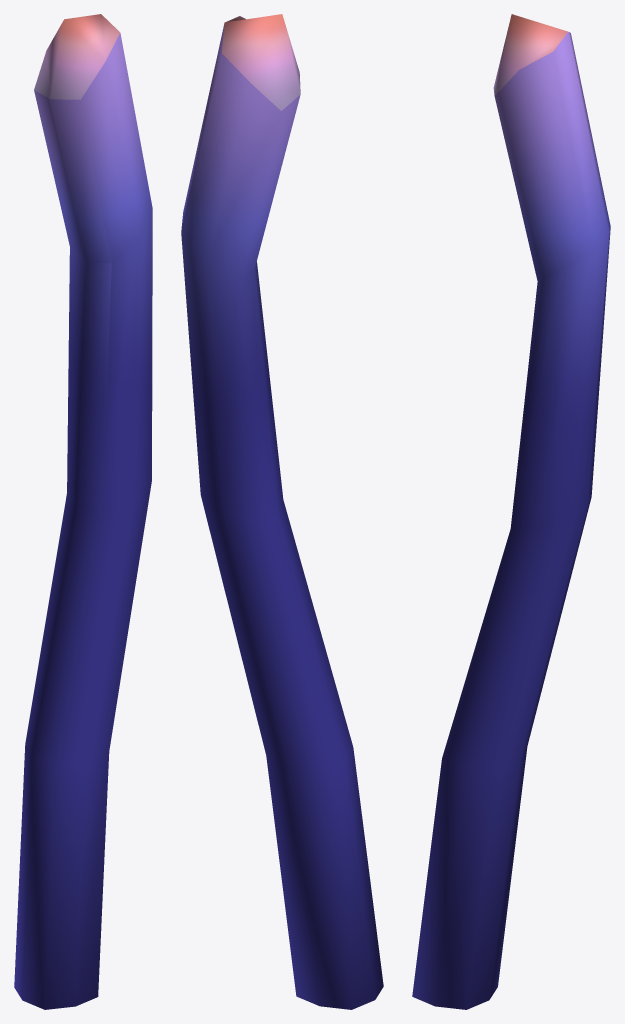
The model's file is GroundCover1.002.fbx.
The picture shows the model from 3 angles, left to right: view 1: azimuth 30°, elevation 25°; view 2: azimuth 150°, elevation 25°; view 3: azimuth 330°, elevation 25°; orthographic projection. The views are drawn at different scales.
Visible parts, largest first — view 1: Stem.015; view 2: Stem.015; view 3: Stem.015.
Boxes of the visible parts, x1=… form: Stem.015: x1=14, y1=14, x2=152, y2=1009; Stem.015: x1=181, y1=14, x2=383, y2=1009; Stem.015: x1=412, y1=14, x2=610, y2=1009.
Bounding box in the file's own units: 57.99 × 351 × 46.4.
1 material, 1 textured.
